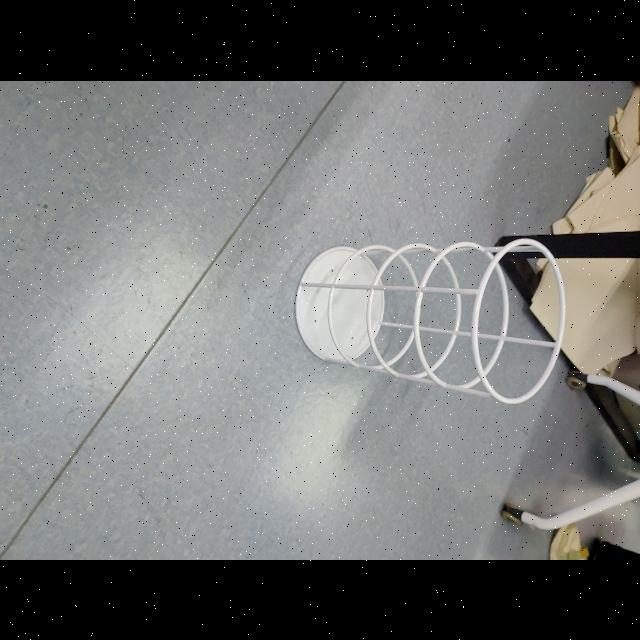S: (290, 233, 570, 407)
